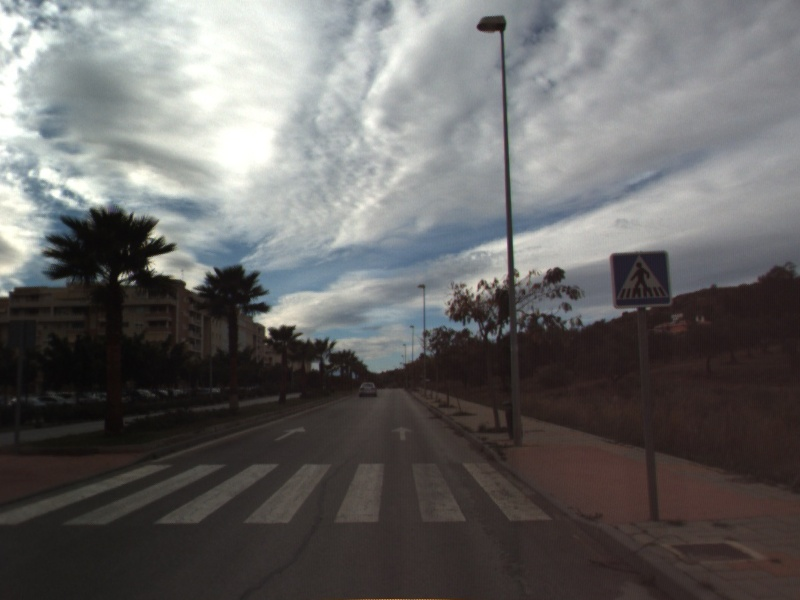STRAIGHT: (273, 424, 308, 442), (390, 424, 415, 442)
